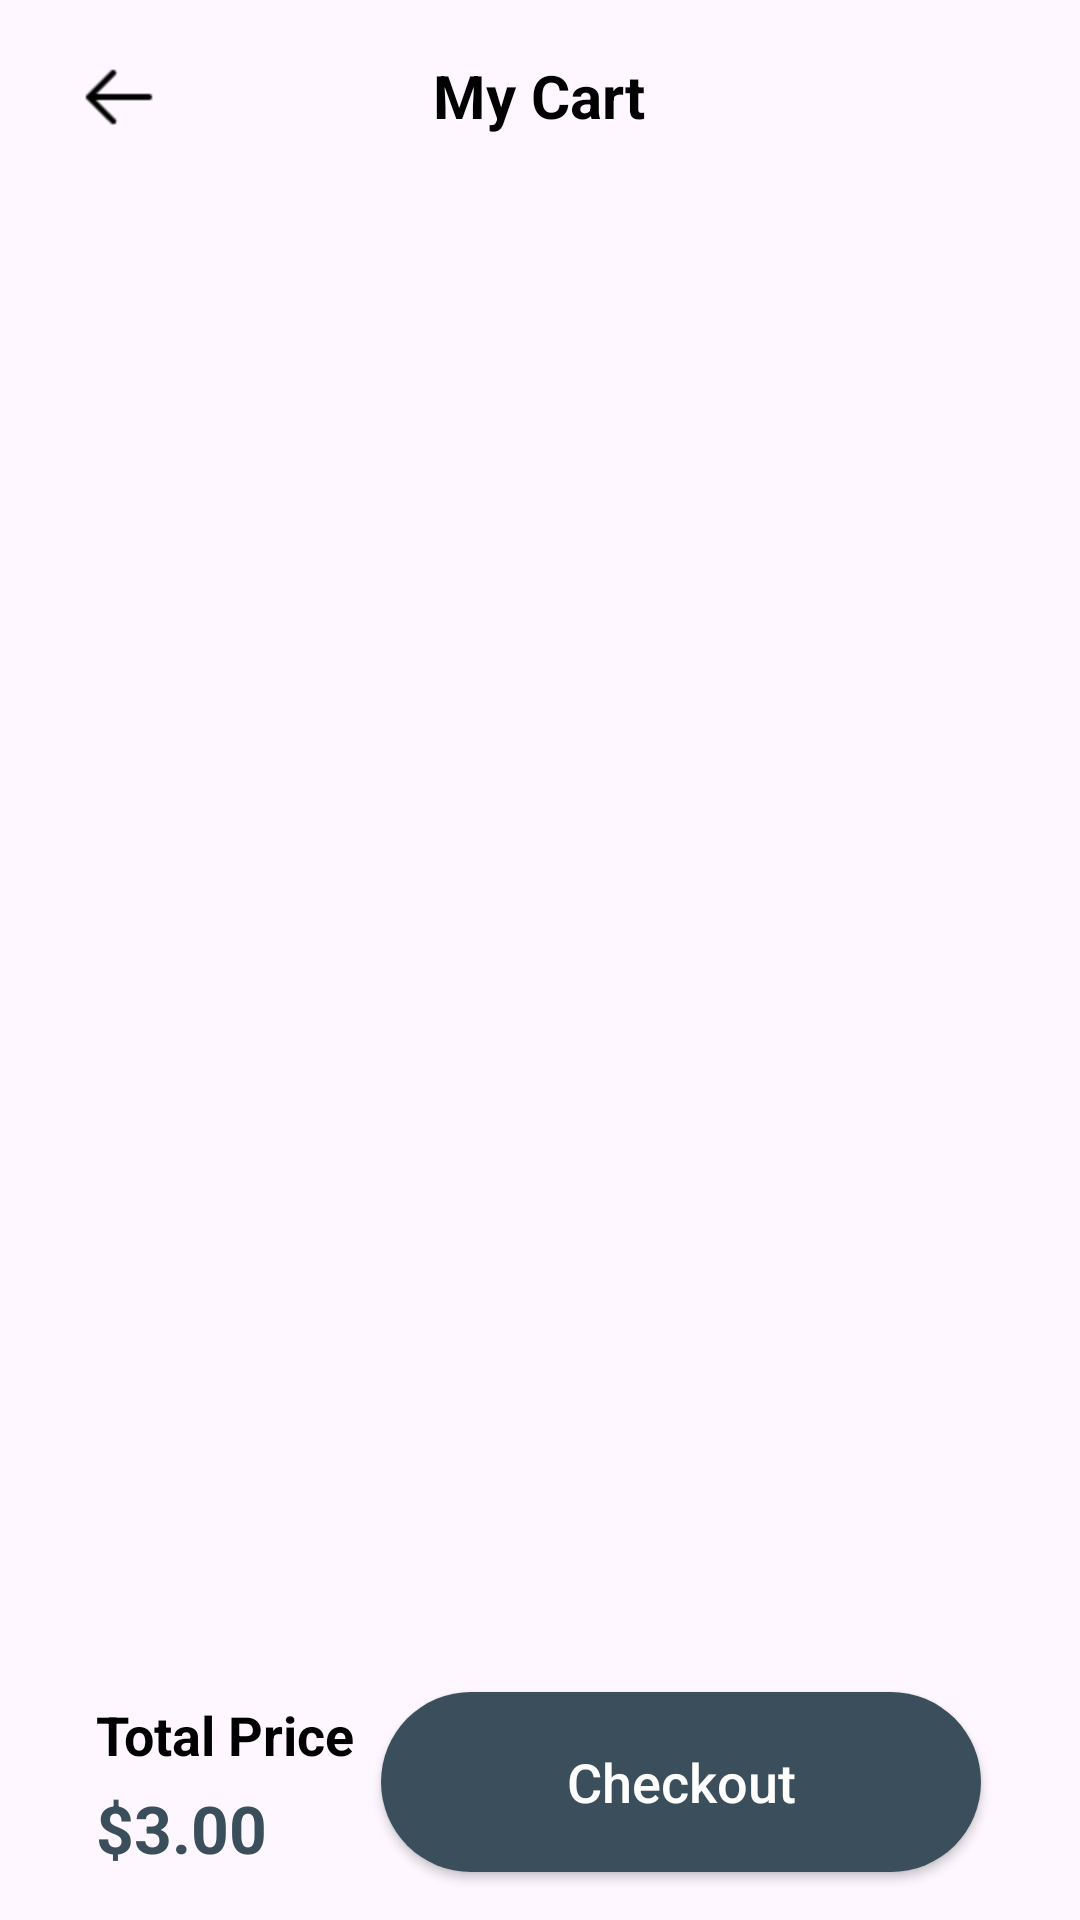

Point at icon controls on the screen. Image size 1080px×1920px, points as (x,y).
back: (119,97)
